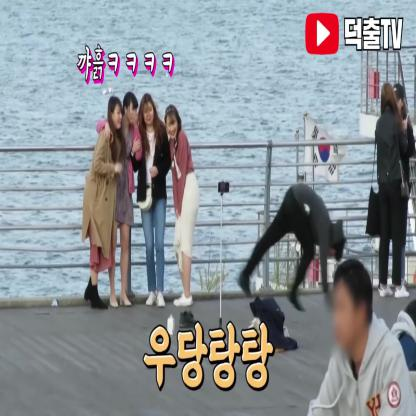Fall_Down: (236, 180, 349, 319)
